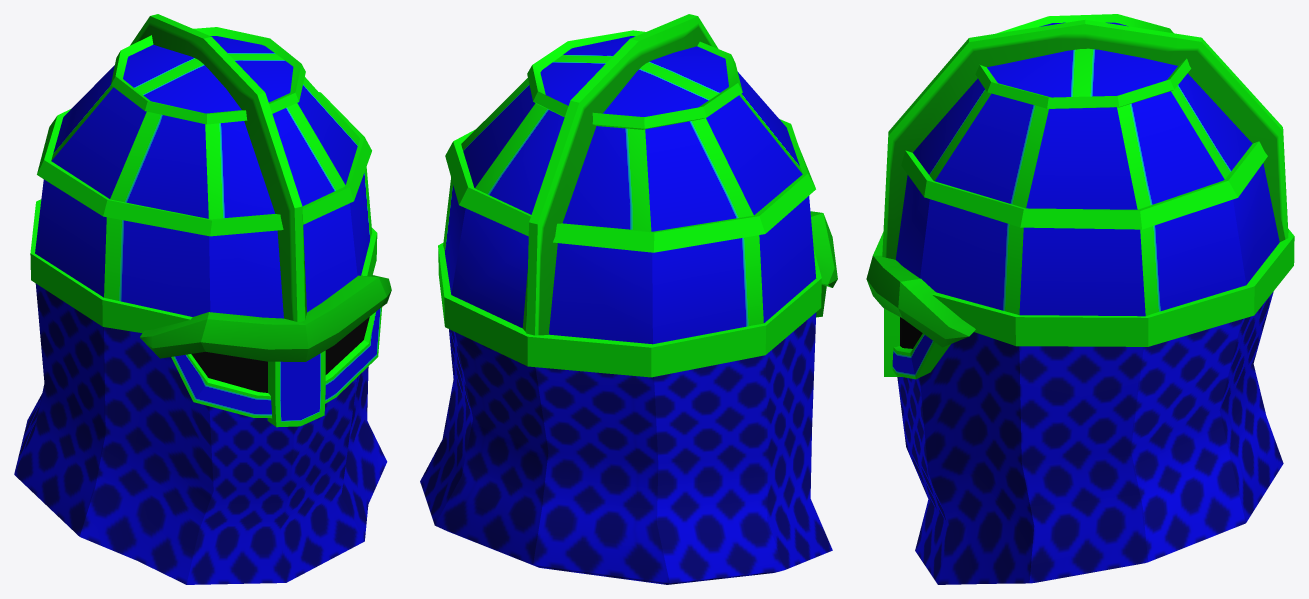
File: SpangenHelm.fbx
3 renders of one model, left to right at view 1: azimuth 30°, elevation 25°; view 2: azimuth 150°, elevation 25°; view 3: azimuth 270°, elevation 25°, orthographic. The views are drawn at different scales.
Parts seen in each view (by area): view 1: SpangenHelm; view 2: SpangenHelm; view 3: SpangenHelm.
Part boxes in pixels (x1=…): SpangenHelm: x1=14, y1=14, x2=391, y2=584; SpangenHelm: x1=420, y1=14, x2=837, y2=584; SpangenHelm: x1=866, y1=14, x2=1294, y2=584.
Size of the model in its own units: 30.5 by 43.3 by 31.67.
